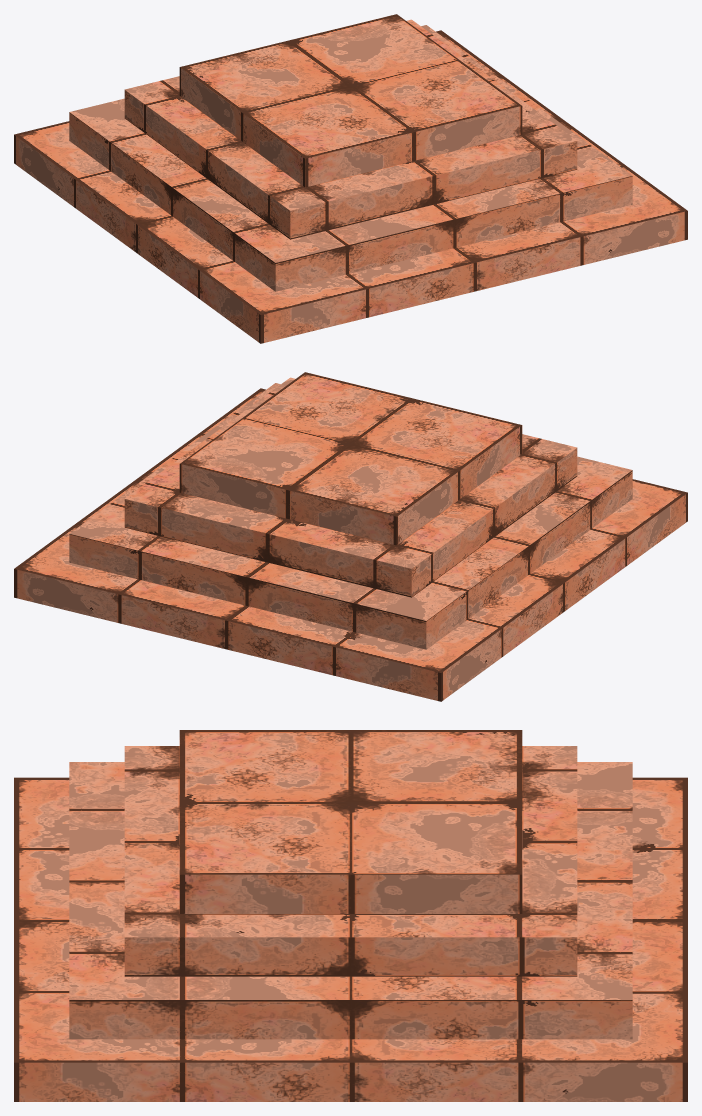
File: geosteps.fbx
3 views of the same model, one above another, from view 1: azimuth 30°, elevation 25°; view 2: azimuth 150°, elevation 25°; view 3: azimuth 270°, elevation 25° (orthographic). The views are drawn at different scales.
Visible parts, largest first — view 1: Geopyrt; view 2: Geopyrt; view 3: Geopyrt.
Part boxes in pixels (x1,y1,x2,y2): Geopyrt: (14,14,687,343); Geopyrt: (14,372,687,701); Geopyrt: (14,730,687,1101).
Size of the model in its own units: 349 by 89.68 by 349.
